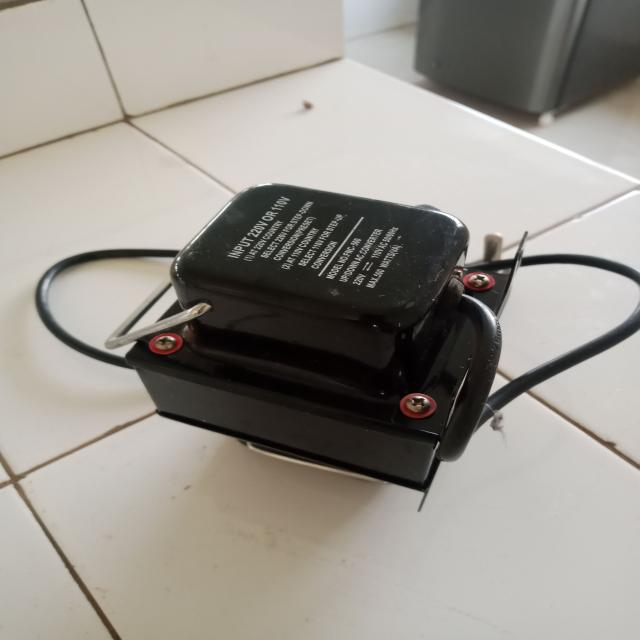Stepdown Transformer: (113, 186, 530, 506)
